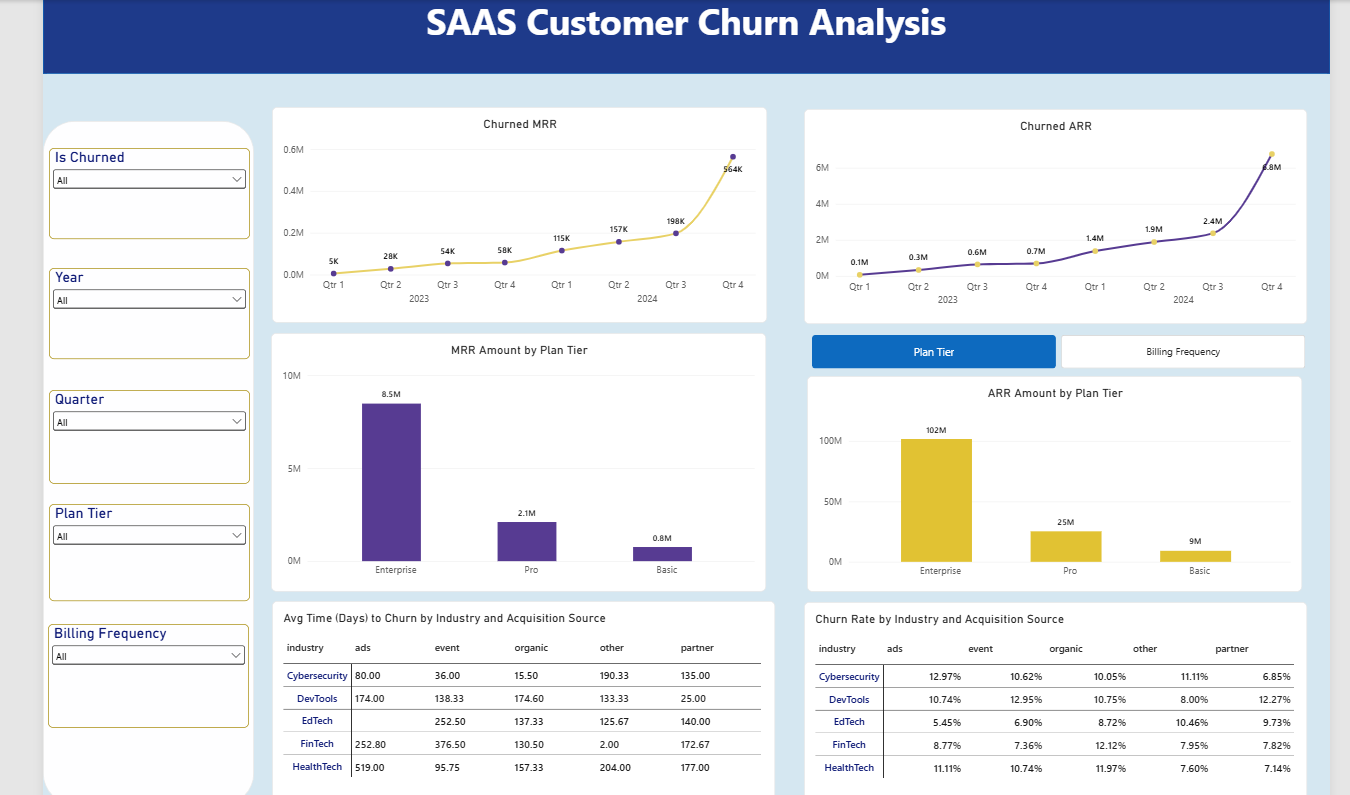

The page's visual inventory and layout, read from the dashboard file:
{"tool":"powerbi","page":{"name":"Churn & Revenue Analysis","canvas":[1920,1250],"ordinal":1},"visuals":[{"type":"lineChart","title":"Churned ARR","fields":{"Category":["Calendar.Date.Variation.Date Hierarchy.Year","Calendar.Date.Variation.Date Hierarchy.Quarter"],"Y":["Measuress.Churned ARR"]},"box":[1135.8,204.5,750.6,320.7],"z":0},{"type":"lineChart","title":"Churned MRR ","fields":{"Category":["Calendar.Date.Variation.Date Hierarchy.Year","Calendar.Date.Variation.Date Hierarchy.Quarter"],"Y":["Measuress.Churned Mrr"]},"box":[342,201.4,739.1,321.7],"z":1000},{"type":"pivotTable","title":"Churn Rate by  Industry and Acquisition Source","fields":{"Columns":["ravenstack_accounts.referral_source"],"Rows":["ravenstack_accounts.industry"],"Values":["Measuress.Churn Rate"]},"box":[1135.8,940.3,750.7,303],"z":2000},{"type":"pivotTable","title":"Avg Time  (Days) to Churn by Industry and  Acquisition Source ","fields":{"Columns":["Qsn 5 output.referral_source"],"Rows":["Qsn 5 output.industry"],"Values":["Min(Qsn 5 output.avg_time_to_churn_days)"]},"box":[341.8,938.8,750.7,304.5],"z":3000},{"type":"clusteredColumnChart","title":"MRR Amount by Plan Tier","fields":{"Category":["ravenstack_subscriptions.plan_tier"],"Y":["Sum(ravenstack_subscriptions.mrr_amount)"]},"box":[340.8,539.5,739.5,385.5],"z":4000},{"type":"shape","box":[0,0,1921.2,151.9],"z":6000},{"type":"textbox","box":[564.3,35.8,791.4,300],"z":7000},{"type":"shape","box":[0,222.4,314.9,1020.9],"z":8000},{"type":"slicer","title":"ioiiio","fields":{"Values":["ravenstack_accounts.churn_flag"]},"box":[8.7,455.4,300,112],"z":9000},{"type":"slicer","title":"ioiiio","fields":{"Values":["Calendar.Date.Variation.Date Hierarchy.Year"]},"box":[8.7,592.4,300,109.8],"z":10000},{"type":"slicer","title":"ioiiio","fields":{"Values":["Calendar.Date.Variation.Date Hierarchy.Quarter"]},"box":[8.7,750,300,105.4],"z":11000},{"type":"slicer","title":"ioiiio","fields":{"Values":["ravenstack_accounts.plan_tier"]},"box":[8.7,896.7,300,107.6],"z":12000},{"type":"slicer","title":"ioiiio","fields":{"Values":["ravenstack_subscriptions.billing_frequency"]},"box":[7.6,1046.7,300,118.5],"z":13000},{"type":"clusteredColumnChart","title":"ARR  Amount by Plan Tier","fields":{"Category":["ravenstack_subscriptions.plan_tier"],"Y":["Sum(ravenstack_subscriptions.arr_amount)"]},"box":[1140.8,602.6,739.5,322.4],"z":14000},{"type":"bookmarkNavigator","box":[1148.5,542.4,737.4,50.5],"z":17001},{"type":"pageNavigator","box":[19.6,260.9,278.3,166.3],"z":17002}]}

Visuals, with their boxes on the page's 1920x1250 design canvas (x1, y1, x2, y2). These are canvas units, not pixel positions in the 1350x795 screenshot, which may show the page scaled, cropped or inside an application window:
"Churned ARR" lineChart: pyautogui.locateOnScreen(1136, 204, 1886, 525)
"Churned MRR " lineChart: pyautogui.locateOnScreen(342, 201, 1081, 523)
"Churn Rate by  Industry and Acquisition Source" pivotTable: pyautogui.locateOnScreen(1136, 940, 1886, 1243)
"Avg Time  (Days) to Churn by Industry and  Acquisition Source " pivotTable: pyautogui.locateOnScreen(342, 939, 1092, 1243)
"MRR Amount by Plan Tier" clusteredColumnChart: pyautogui.locateOnScreen(341, 540, 1080, 925)
shape: pyautogui.locateOnScreen(0, 0, 1921, 152)
textbox: pyautogui.locateOnScreen(564, 36, 1356, 336)
shape: pyautogui.locateOnScreen(0, 222, 315, 1243)
"ioiiio" slicer: pyautogui.locateOnScreen(9, 455, 309, 567)
"ioiiio" slicer: pyautogui.locateOnScreen(9, 592, 309, 702)
"ioiiio" slicer: pyautogui.locateOnScreen(9, 750, 309, 855)
"ioiiio" slicer: pyautogui.locateOnScreen(9, 897, 309, 1004)
"ioiiio" slicer: pyautogui.locateOnScreen(8, 1047, 308, 1165)
"ARR  Amount by Plan Tier" clusteredColumnChart: pyautogui.locateOnScreen(1141, 603, 1880, 925)
bookmarkNavigator: pyautogui.locateOnScreen(1148, 542, 1886, 593)
pageNavigator: pyautogui.locateOnScreen(20, 261, 298, 427)
